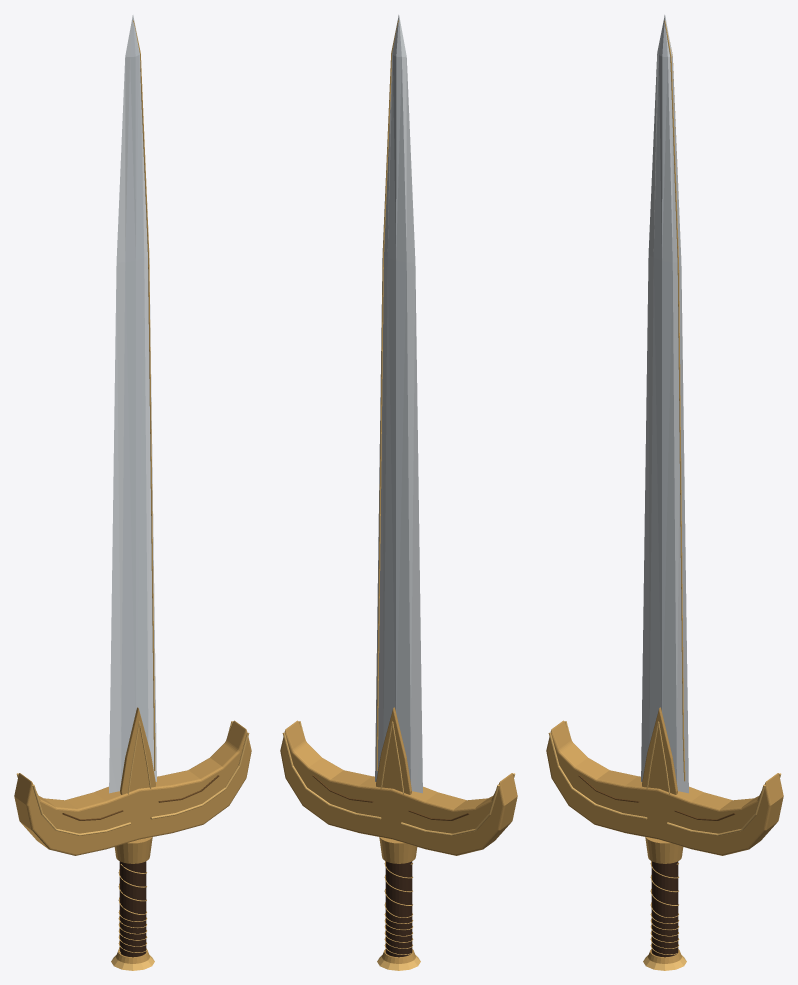
File: role6-sword.glb
3 views of the same model, side by side, from view 1: azimuth 30°, elevation 25°; view 2: azimuth 150°, elevation 25°; view 3: azimuth 330°, elevation 25° (orthographic).
Visible parts, largest first — view 1: Role6 reference gold crescent sword; view 2: Role6 reference gold crescent sword; view 3: Role6 reference gold crescent sword.
Part boxes in pixels (x1,y1,x2,y2): Role6 reference gold crescent sword: [14, 15, 251, 970]; Role6 reference gold crescent sword: [280, 15, 517, 970]; Role6 reference gold crescent sword: [546, 15, 783, 970].
Size of the model in its own units: 0.26 by 1.05 by 0.044.
